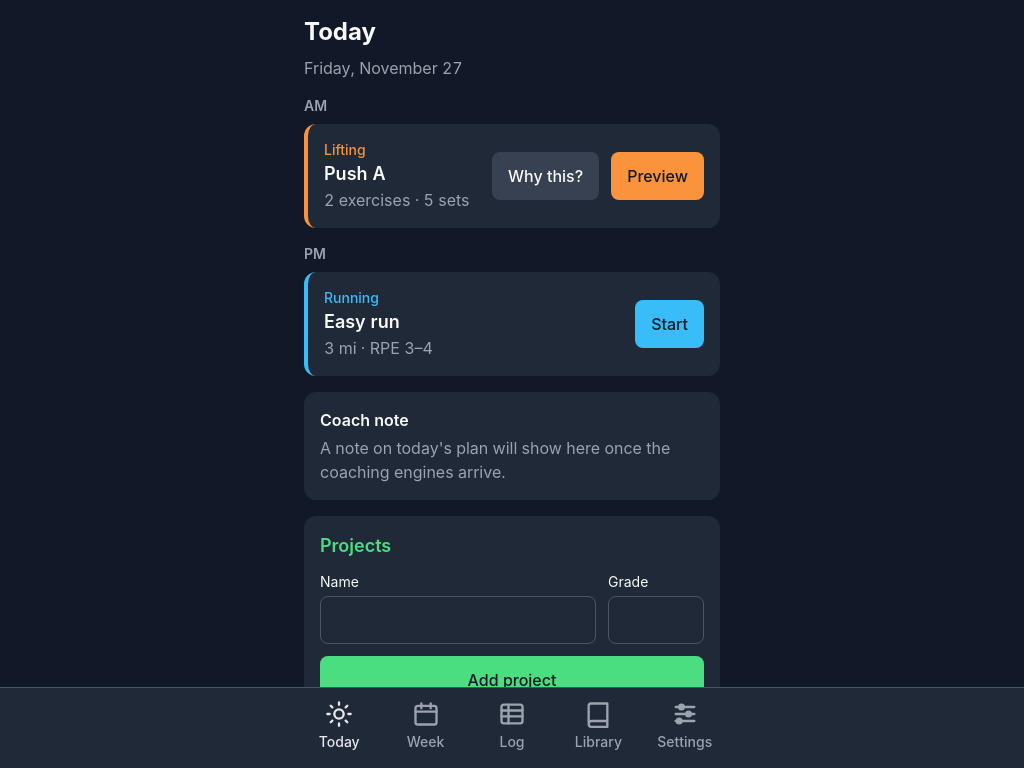
Today › lists every lift target and reason in Today's sheet
Click the button with aria-label "Why this? Push A" at (546, 176), box [492,152,599,200]
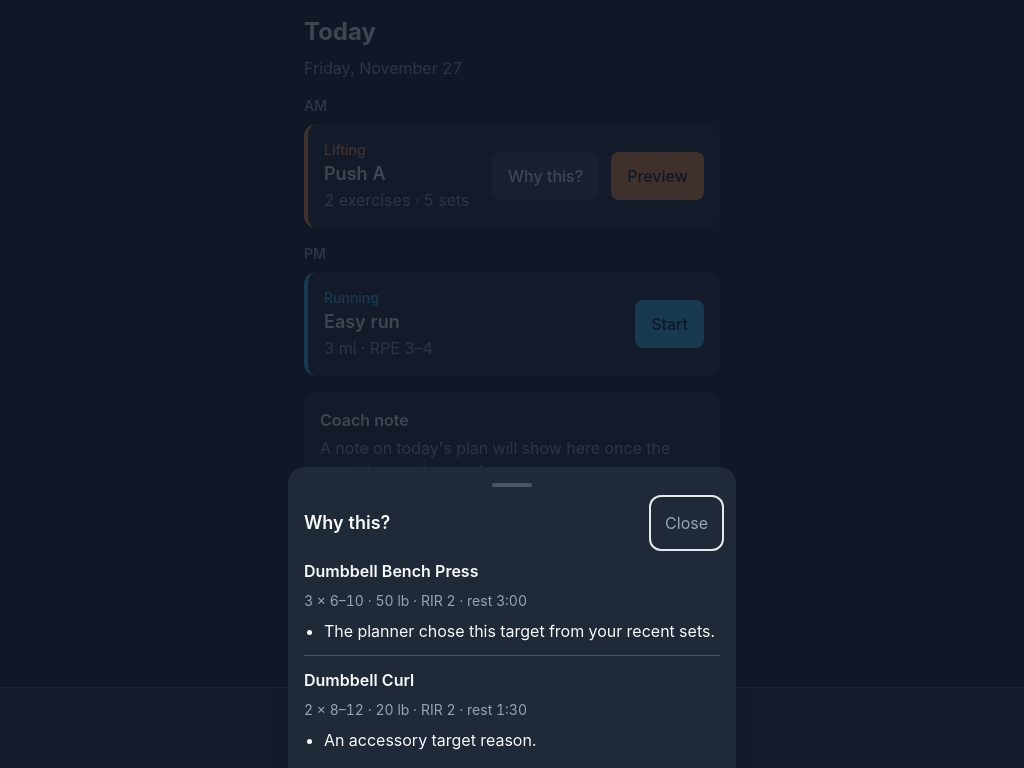
Expected: the dialog "Why this?" shows "Dumbbell Bench Press", [304,561,478,581]
Expected: the dialog "Why this?" shows "The planner chose this target", [324,621,715,641]
Expected: the dialog "Why this?" shows "Dumbbell Curl", [304,670,414,690]
